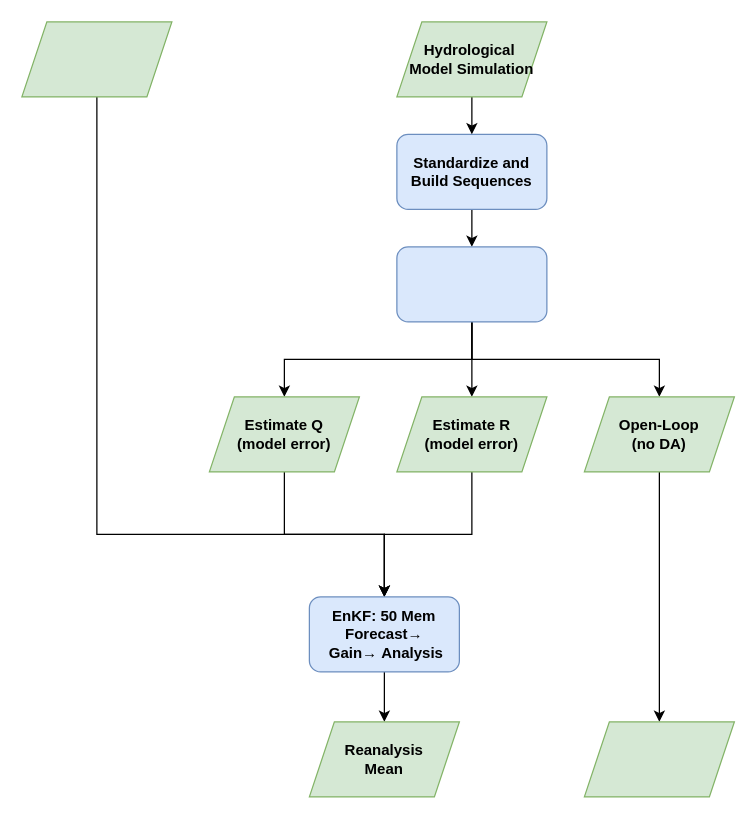
This 756x819 diagram has some shape labels left out. The shapes that lost their labels are listed below. From the top down, each one's box as (x1, y1, x2, y2) in pixels, then its label:
(21, 21, 172, 97): USGS Observations
(396, 246, 547, 322): Train LSTM (learns model dynamics)
(583, 721, 734, 797): Open-Loop Data
